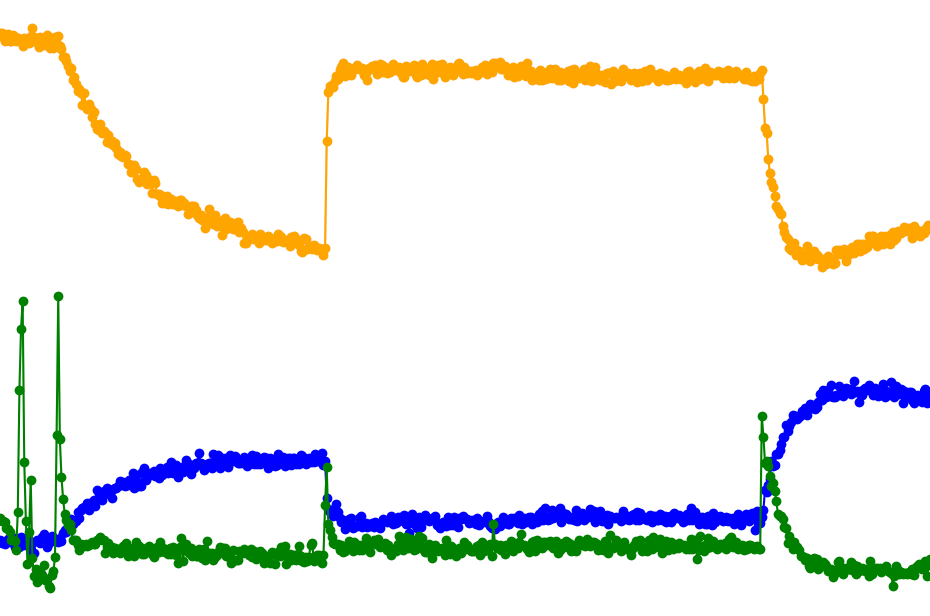Condensation (CO2): (77, 0, 155, 616)
High O2: (310, 0, 659, 616), (776, 0, 930, 616), (659, 0, 776, 616)
Low CO2: (310, 0, 659, 616), (659, 0, 776, 616)
Low O2: (659, 0, 930, 616)
Normal: (77, 0, 659, 616), (659, 0, 930, 616), (0, 0, 155, 616), (155, 0, 310, 616), (776, 0, 930, 616), (0, 0, 77, 616)
